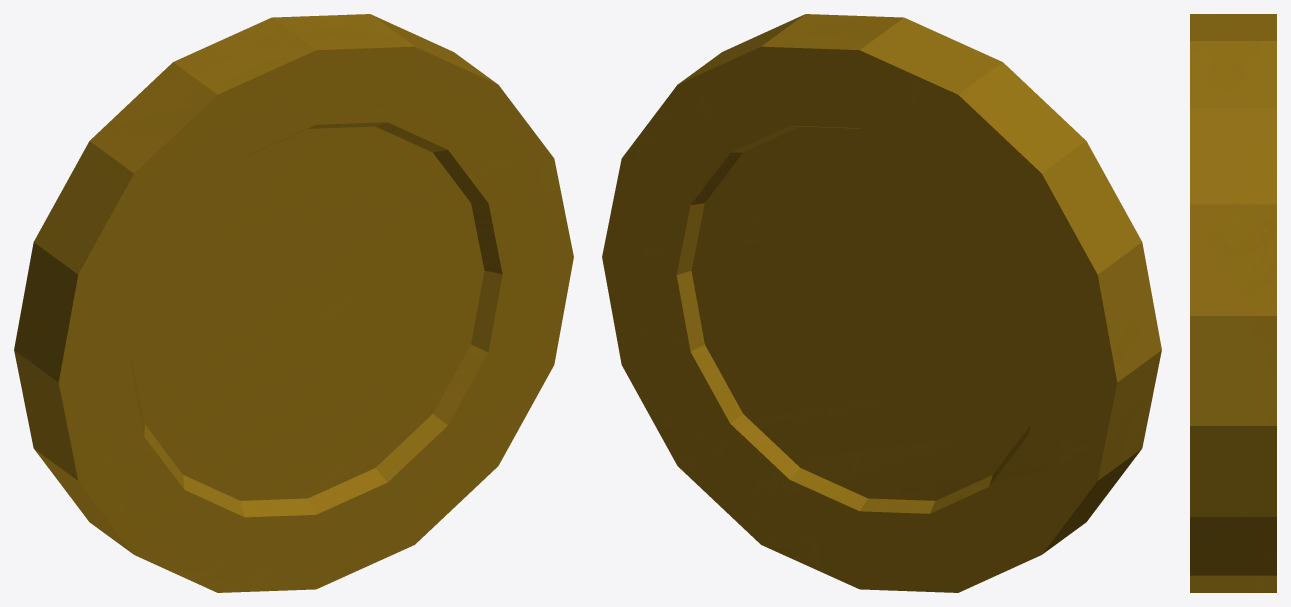
Rendered from moneda.obj.
The picture shows the model from 3 angles, left to right: view 1: azimuth 30°, elevation 25°; view 2: azimuth 150°, elevation 25°; view 3: azimuth 270°, elevation 25°; orthographic projection. The views are drawn at different scales.
Visible parts, largest first — view 1: pCylinder1; view 2: pCylinder1; view 3: pCylinder1.
Part boxes in pixels (x1=…): pCylinder1: x1=14, y1=14, x2=573, y2=592; pCylinder1: x1=602, y1=14, x2=1161, y2=592; pCylinder1: x1=1190, y1=14, x2=1276, y2=592.
Bounding box in the file's own units: 0.1776 × 0.1776 × 0.0266.
Materials: 1 (1 with a texture image).
